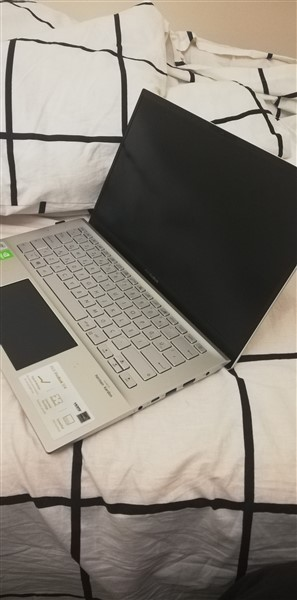laptop: (1, 76, 297, 454)
